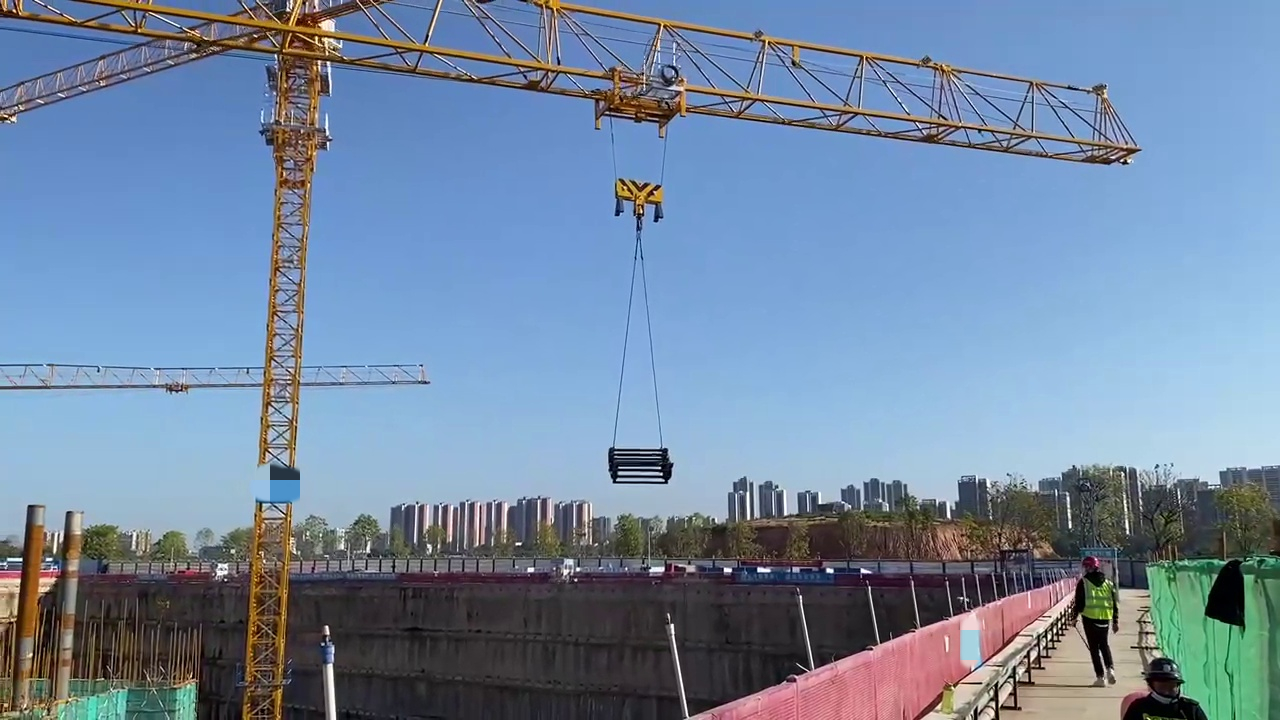fence: (661, 602, 1006, 720), (1003, 574, 1076, 639)
helmet: (1140, 658, 1187, 680), (1082, 556, 1100, 568)
hook: (613, 175, 667, 221)
person: (1074, 552, 1121, 684), (1122, 657, 1212, 720)
vest: (1082, 576, 1113, 619)
